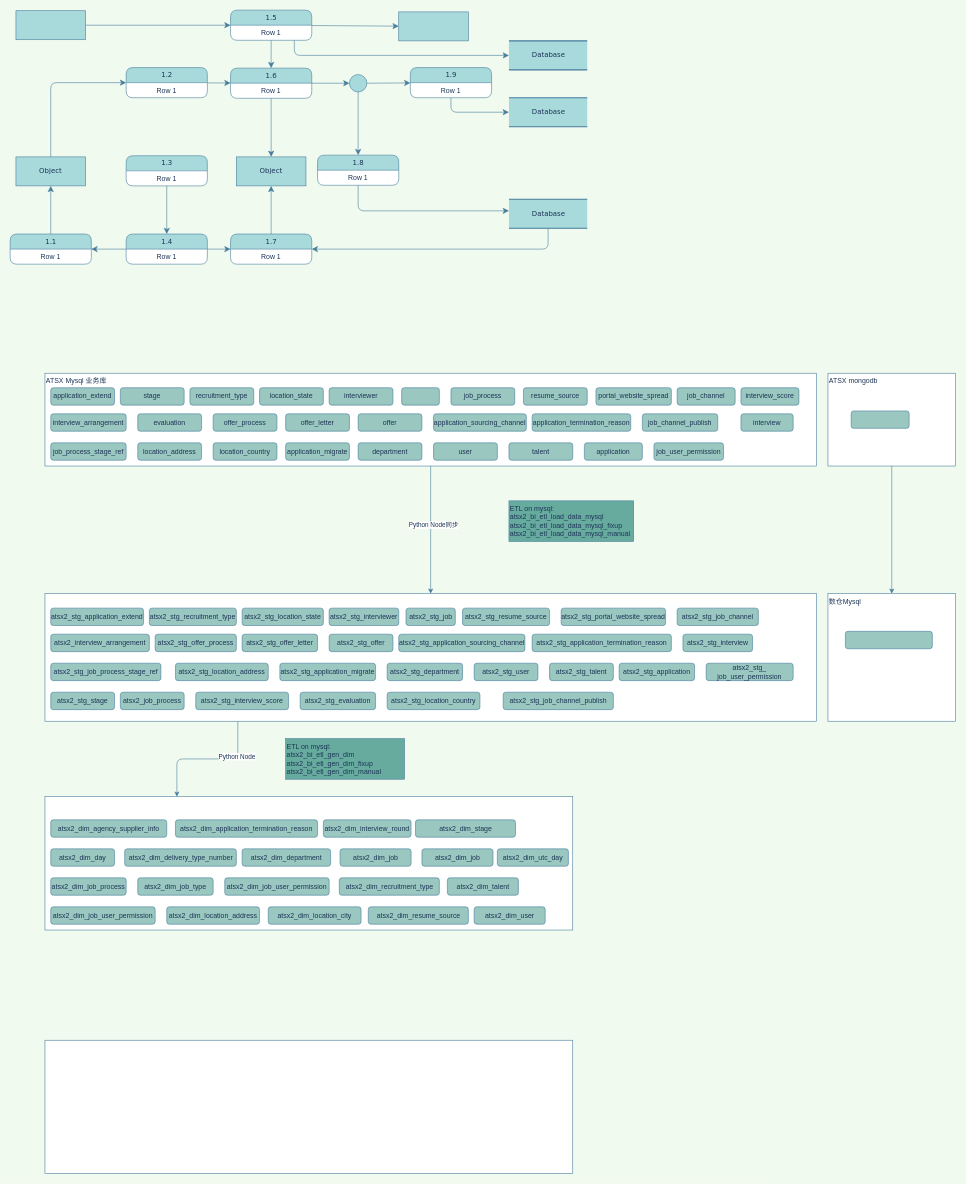
This 966x1184 diagram has some shape labels left out. The box of each missing label's shape, as (x1, y1, x2, y2) in pixels:
atsx2_stg_operate_log: (845, 631, 932, 649)
atsx_operate_log: (851, 410, 909, 428)
Input: (15, 10, 86, 40)
job: (401, 387, 439, 405)
Output: (398, 11, 468, 41)
数仓 - Clickhouse 计算集群: (44, 1040, 573, 1174)
数仓 - Mysql 计算集群: (44, 796, 573, 930)
数仓 Mysql: (44, 593, 816, 721)
